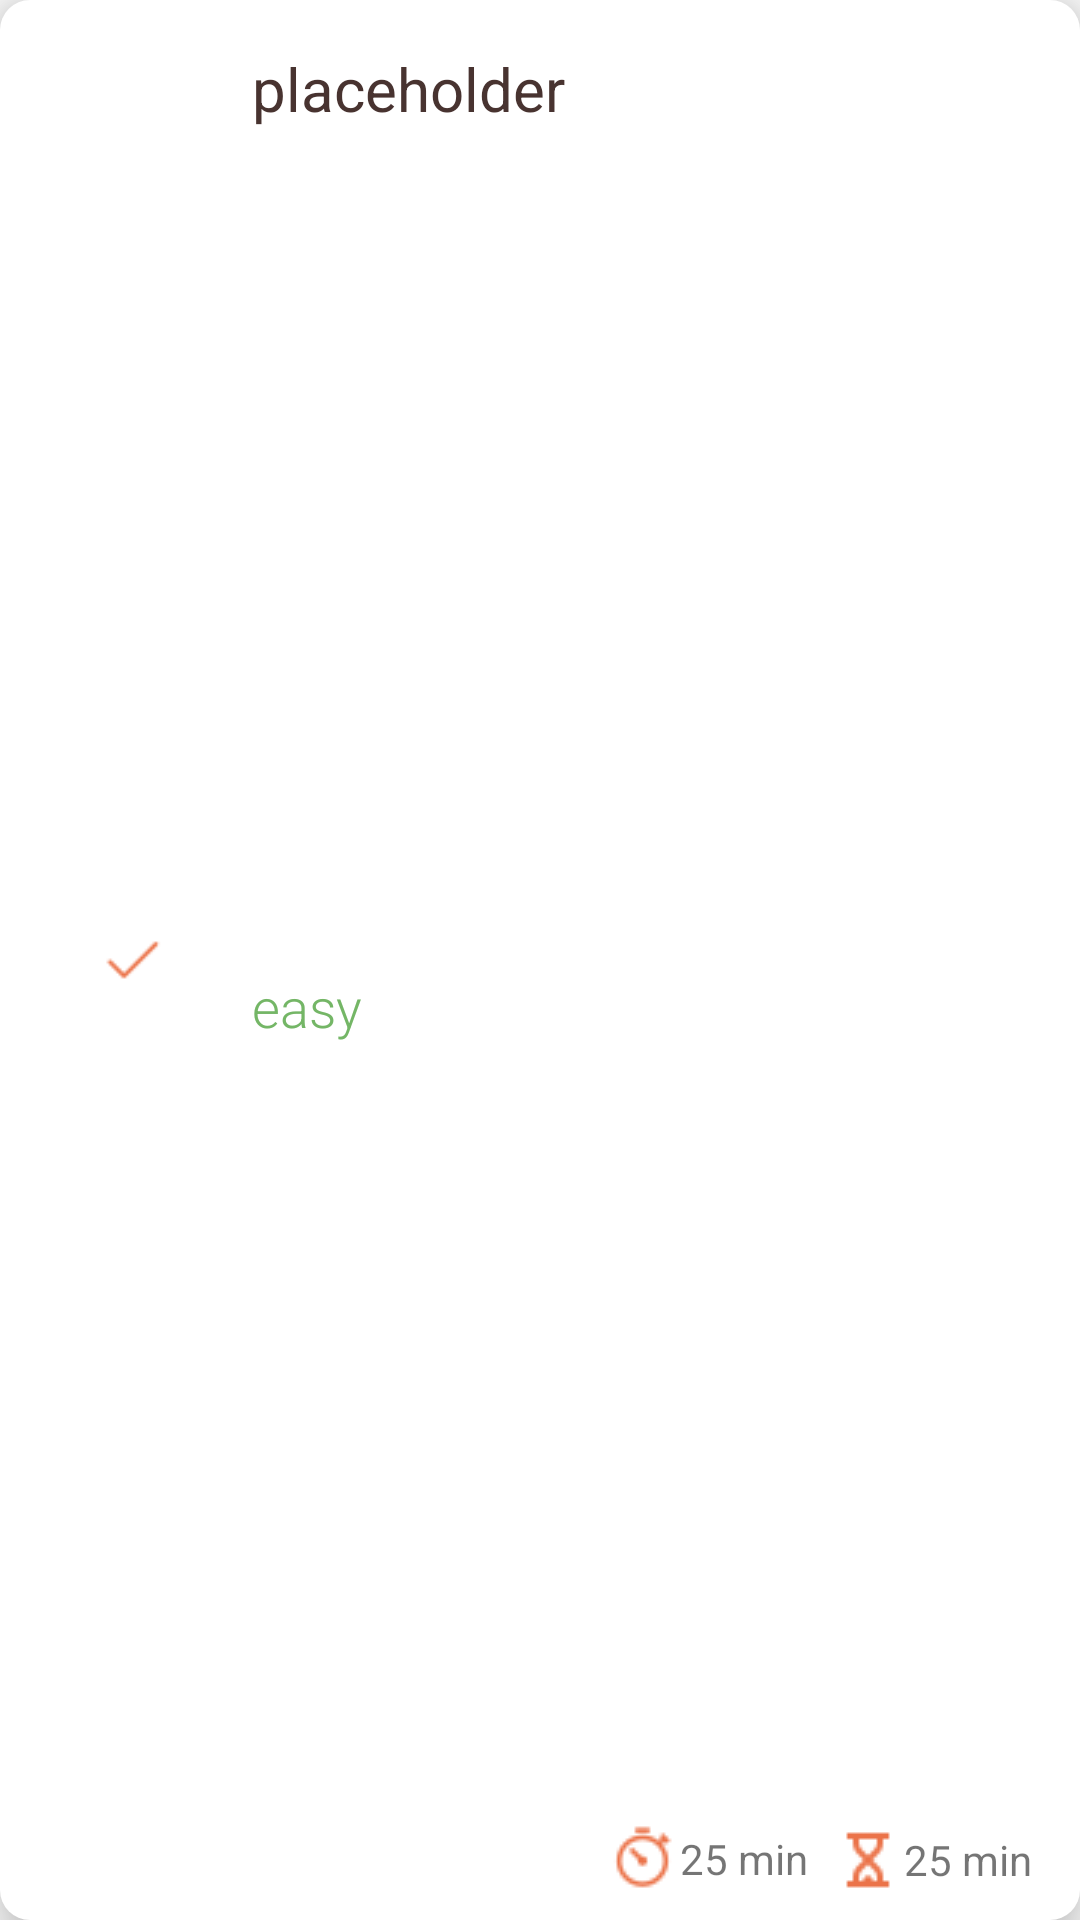

Screen size 1080x1920. Icon name, then its box in pixels as bbox(x1, y1, x2, y2):
checkmark: bbox(106, 941, 159, 979)
sand timer: bbox(846, 1832, 890, 1888)
timer: bbox(616, 1826, 671, 1888)
